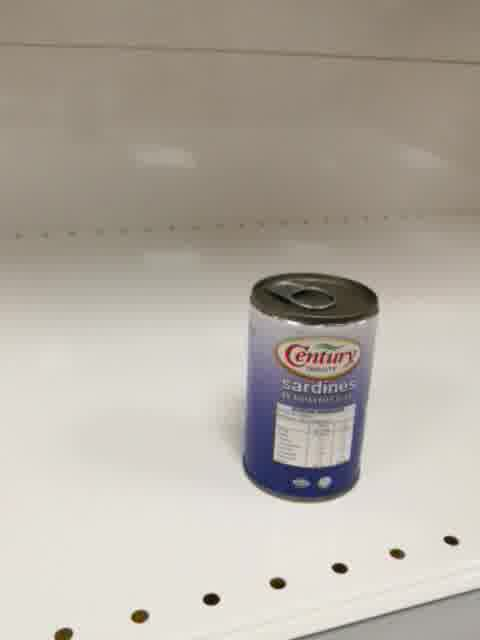sardine: (242, 271, 381, 505)
